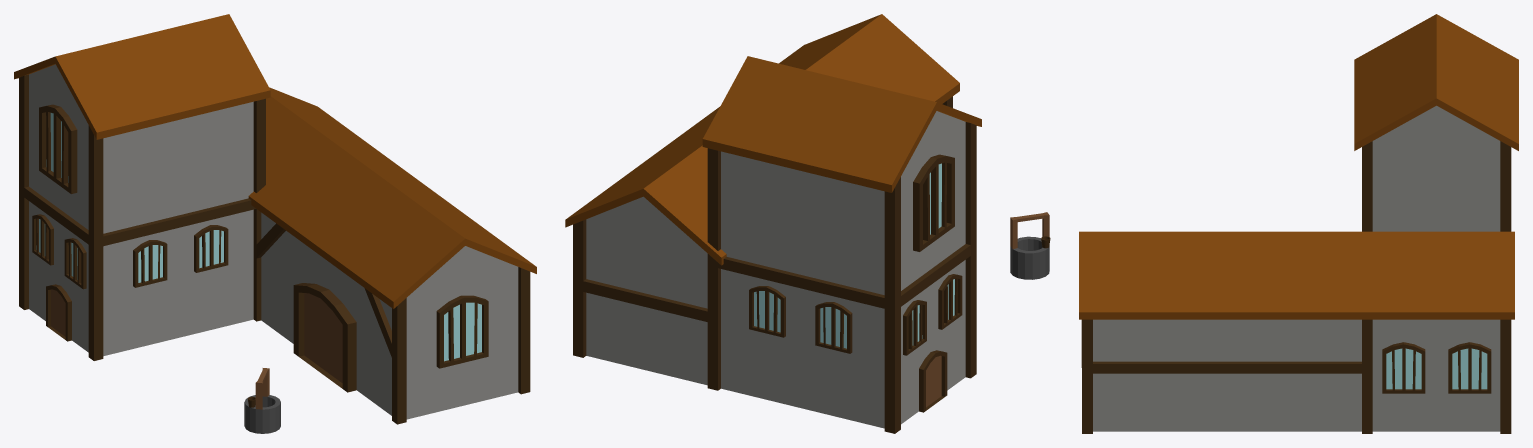
The model's file is Comedor.glb.
3 views of the same model, side by side, from view 1: azimuth 30°, elevation 25°; view 2: azimuth 150°, elevation 25°; view 3: azimuth 270°, elevation 25° (orthographic). The views are drawn at different scales.
Parts seen in each view (by area): view 1: Cylinder; view 2: Cylinder; view 3: Cylinder.
Boxes of the visible parts, box(x1,y1,x2,y2) form: Cylinder: box(14, 14, 536, 433); Cylinder: box(565, 14, 1050, 433); Cylinder: box(1079, 14, 1518, 433).
Size of the model in its own units: 19.12 by 16.79 by 24.24.
